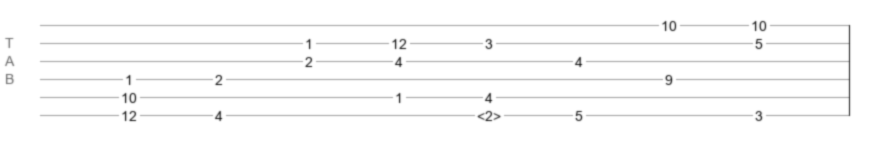1: (125, 72, 133, 82), (305, 36, 313, 46), (395, 90, 403, 100)
10: (121, 90, 137, 100), (661, 18, 677, 28), (751, 18, 767, 28)
12: (121, 108, 137, 118), (391, 36, 407, 46)
2: (215, 72, 223, 82), (305, 54, 313, 64)
3: (485, 36, 493, 46), (755, 108, 763, 118)
4: (215, 108, 223, 118), (395, 54, 403, 64), (485, 90, 493, 100), (575, 54, 583, 64)
5: (575, 108, 583, 118), (755, 36, 763, 46)
9: (665, 72, 673, 82)
harmonic: (477, 108, 501, 118)
